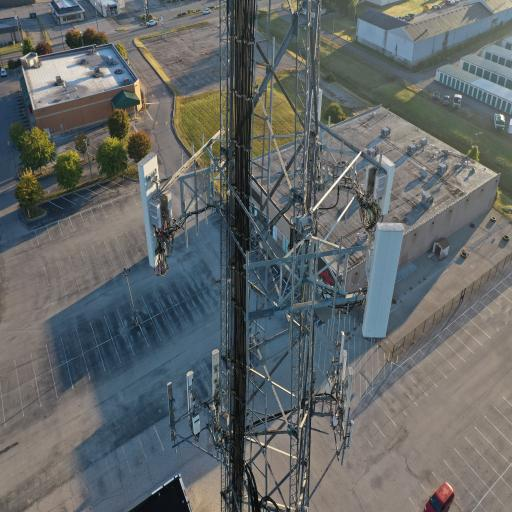supporting_tower: (137, 0, 425, 512)
